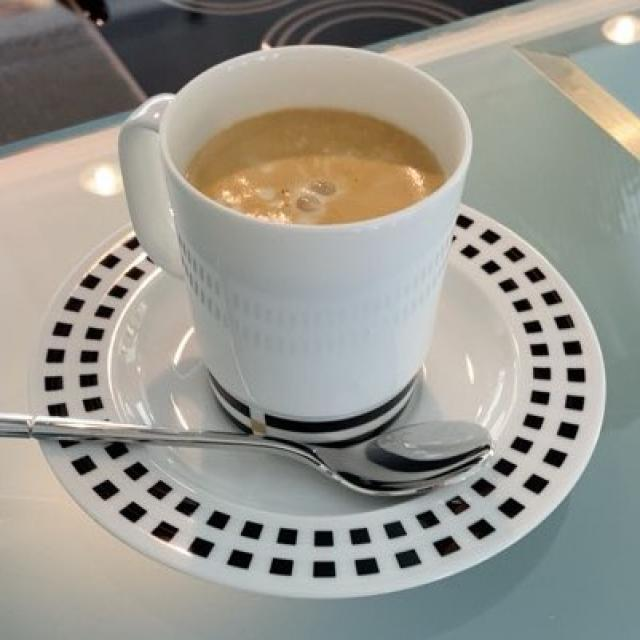coffee: (199, 110, 441, 223)
